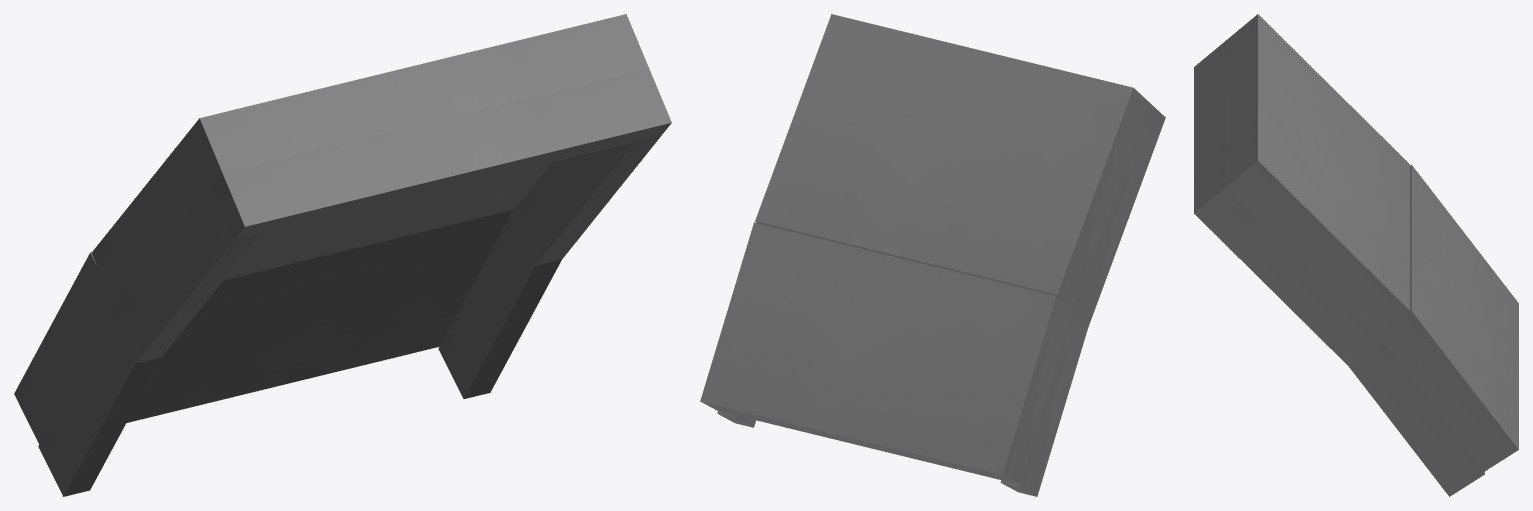
File: dc_metro_arch_b7.obj
3 views of the same model, side by side, from view 1: azimuth 30°, elevation 25°; view 2: azimuth 150°, elevation 25°; view 3: azimuth 270°, elevation 25° (orthographic). The views are drawn at different scales.
Parts seen in each view (by area): view 1: part7b, part7; view 2: part7b, part7; view 3: part7b, part7.
Boxes of the visible parts, box(x1,y1,x2,y2) form: part7b: box(91, 14, 671, 363); part7: box(14, 204, 561, 496); part7b: box(755, 14, 1165, 329); part7: box(700, 222, 1087, 496); part7b: box(1194, 14, 1409, 367); part7: box(1338, 164, 1518, 496).
Size of the model in its own units: 2 by 2.14 by 1.87.
Materials: 1 (1 with a texture image).
